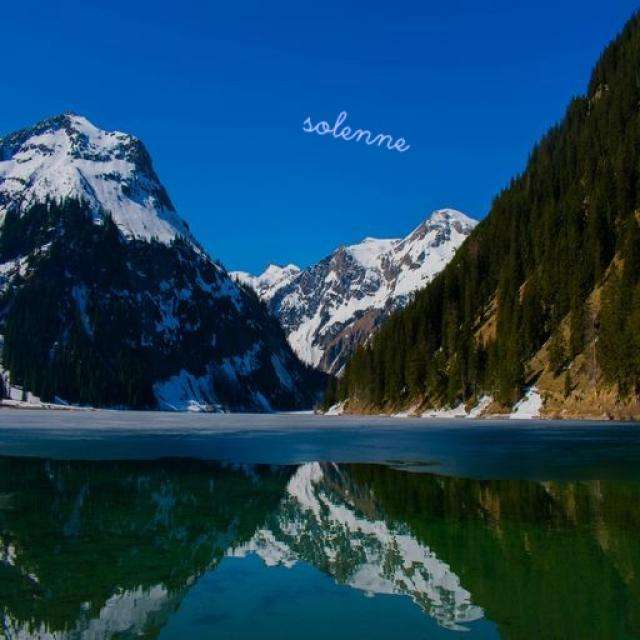watermark: (293, 101, 434, 158)
